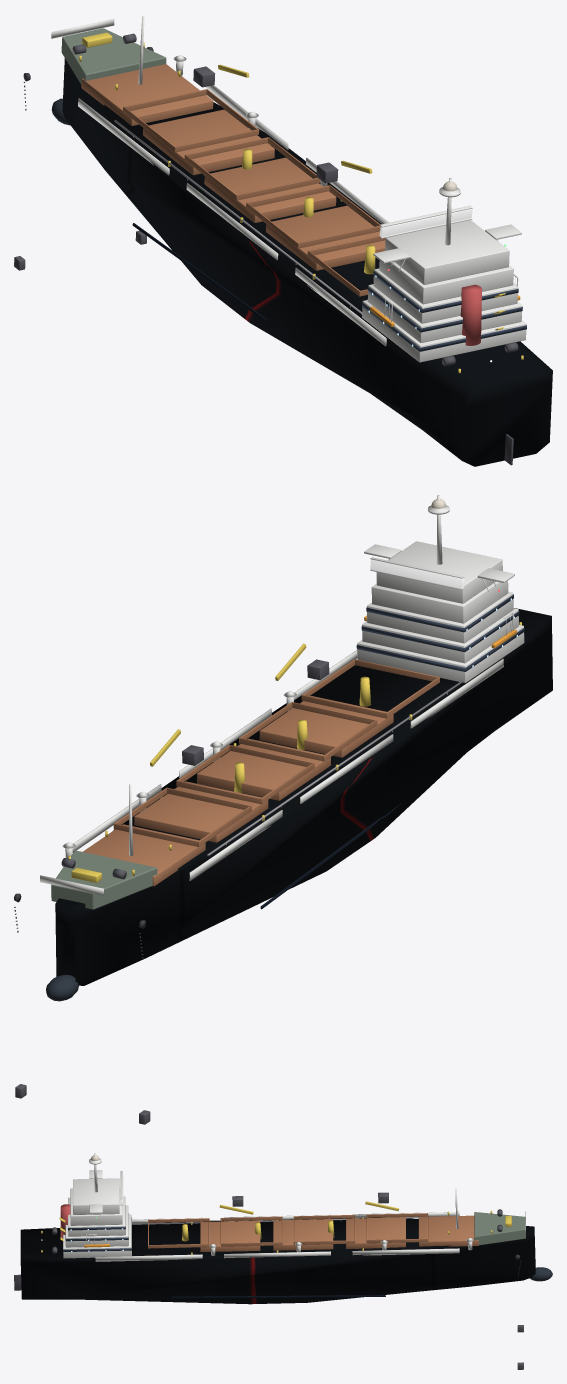
File: ShipHull_VR_v3.3.glb
3 views of the same model, one above another, from view 1: azimuth 30°, elevation 25°; view 2: azimuth 150°, elevation 25°; view 3: azimuth 270°, elevation 25° (orthographic). The views are drawn at different scales.
Visible parts, largest first — view 1: ship_hull, super_deck_5, cargo_hatch_1, cargo_hatch_2, cargo_hatch_3, cargo_hatch_4, forecastle, super_deck_1, super_deck_4, super_deck_2, super_deck_3, funnel (+11 smaller); view 2: ship_hull, cargo_hatch_2, super_deck_5, cargo_hatch_3, cargo_hatch_4, forecastle, cargo_hatch_1, super_deck_4, super_deck_1, super_deck_2, super_deck_3, bridge_front_window_band (+6 smaller); view 3: ship_hull, cargo_hatch_2, cargo_hatch_1, cargo_hatch_3, cargo_hatch_4, super_deck_5, forecastle, super_deck_1, super_deck_4, super_deck_3, super_deck_2, bulwark_starboard_seg_1 (+4 smaller).
Boxes of the visible parts, x1,y1,x2,y2 form: ship_hull: (62,58,552,466); super_deck_5: (385,220,509,284); cargo_hatch_1: (81,64,213,125); cargo_hatch_2: (143,109,274,175); cargo_hatch_3: (204,157,336,222); cargo_hatch_4: (266,205,385,270); forecastle: (61,28,166,84); super_deck_1: (362,300,526,362); super_deck_4: (379,260,513,304); super_deck_2: (367,284,522,342); super_deck_3: (373,268,518,323); funnel: (460,284,481,345); ship_hull: (55,608,552,985); cargo_hatch_2: (134,781,268,842); super_deck_5: (376,541,502,603); cargo_hatch_3: (197,738,330,800); cargo_hatch_4: (259,696,393,757); forecastle: (51,850,157,909); cargo_hatch_1: (83,824,205,886); super_deck_4: (371,581,508,623); super_deck_1: (357,625,524,682); super_deck_2: (362,608,518,663); super_deck_3: (367,591,513,643); bridge_front_window_band: (370,559,464,588); ship_hull: (20,1217,535,1304); cargo_hatch_2: (346,1217,405,1248); cargo_hatch_1: (418,1215,478,1246); cargo_hatch_3: (273,1219,333,1250); cargo_hatch_4: (200,1220,260,1251); super_deck_5: (73,1178,119,1214); forecastle: (474,1212,525,1245); super_deck_1: (63,1214,131,1258); super_deck_4: (70,1187,122,1225); super_deck_3: (68,1196,125,1236); super_deck_2: (65,1205,128,1247); bulwark_starboard_seg_1: (95,1254,202,1261).
Size of the model in its own units: 22.47 by 51.78 by 126.
Materials: 34 (1 with a texture image).
